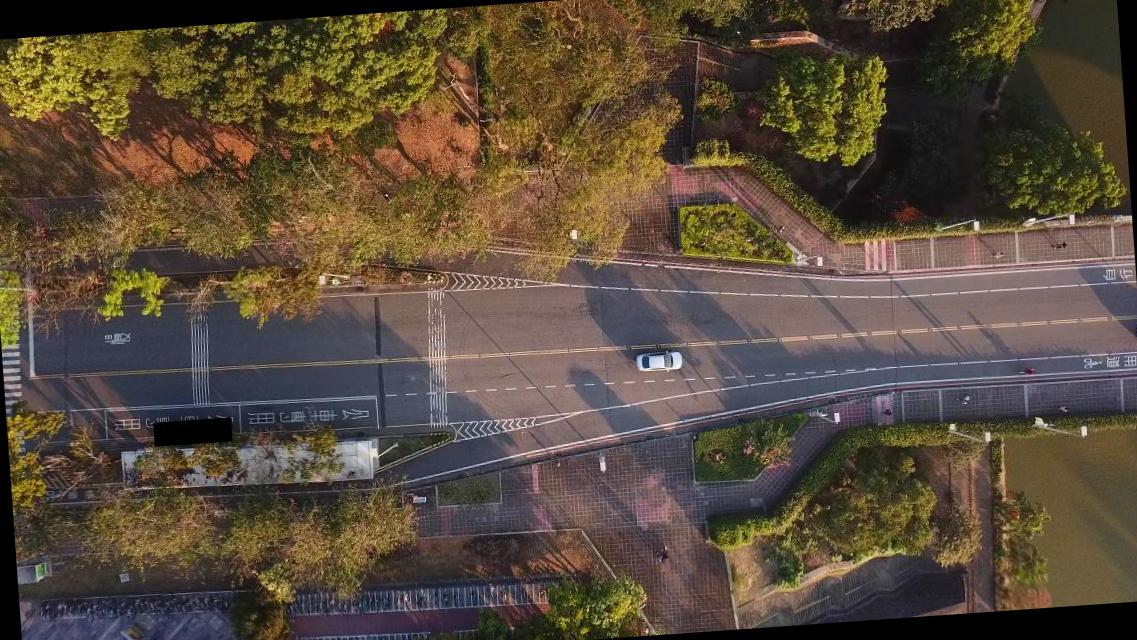vehicle: (634, 348, 682, 374)
